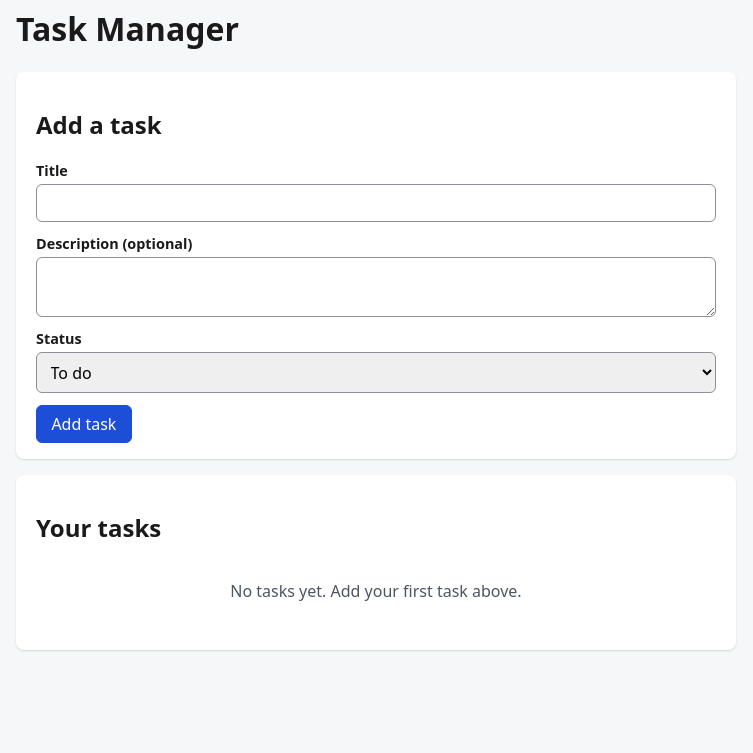
Test: App › creates a task and persists it with timestamps
Type "Write tests" into the field labelled "Title" at (376, 203), box [36,184,716,222]
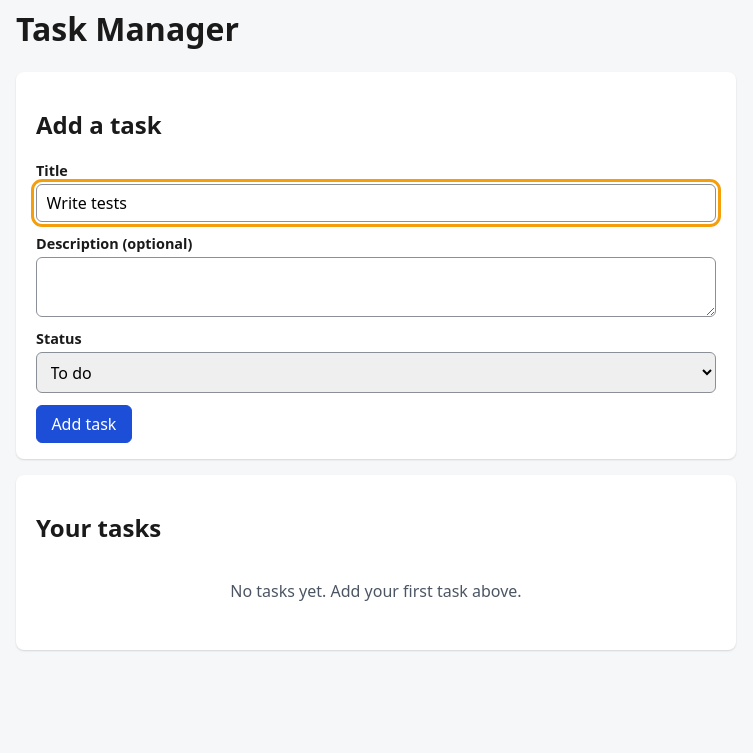
Click the button "Add task" at (84, 424), box [36,405,132,443]
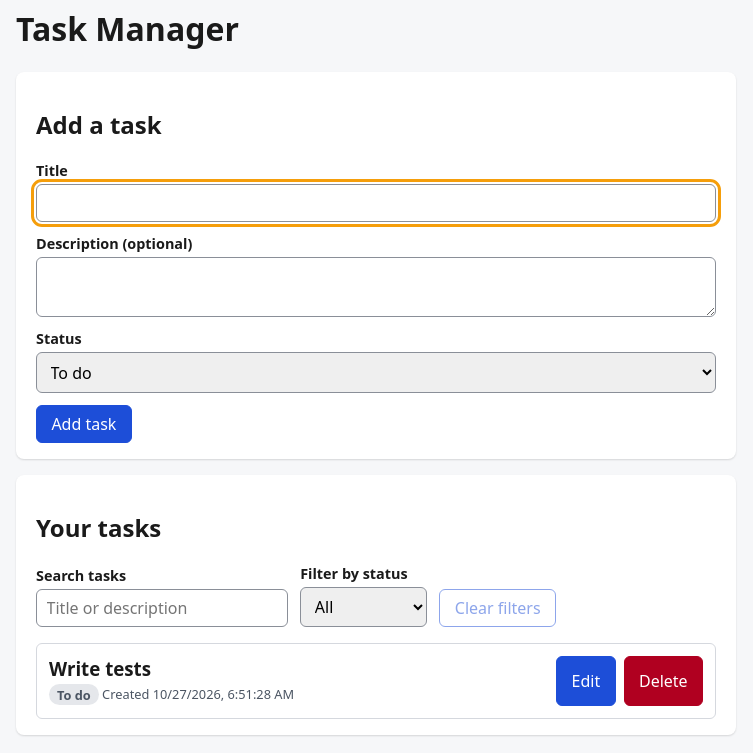
Now the heading "Write tests" is shown, box [49,656,151,681]
